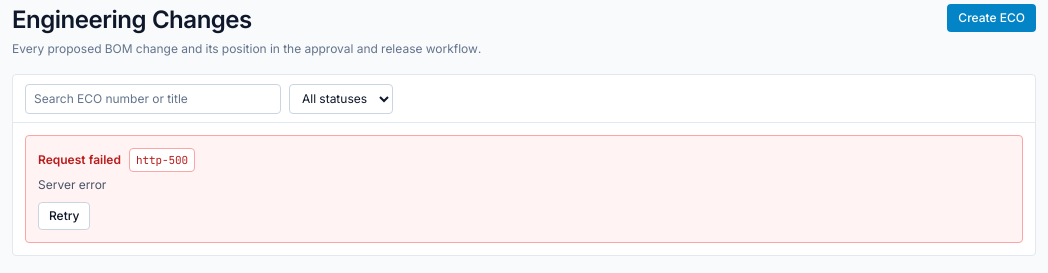
EcoList › renders the error block and retries the list request
This screenshot has width=1048, height=273.
Expected: the text "Request failed" is shown, left=38, top=151, right=121, bottom=169
Click the button "Retry": (64, 216) left=38, top=202, right=90, bottom=230
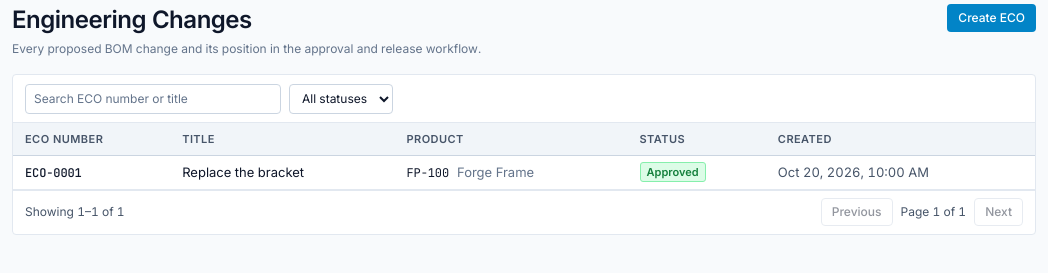
Result: the text "ECO-0001" is shown at left=25, top=164, right=82, bottom=180
